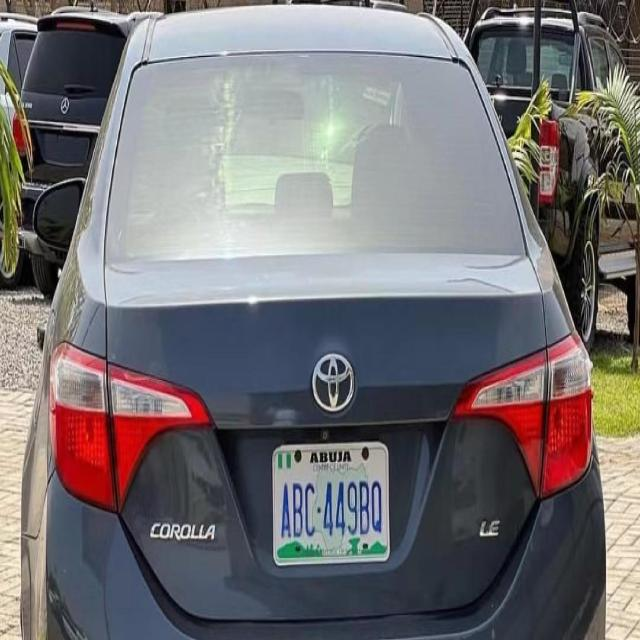Nigerian License Plate - vdataset benjamin-daria: (270, 437, 392, 572)
